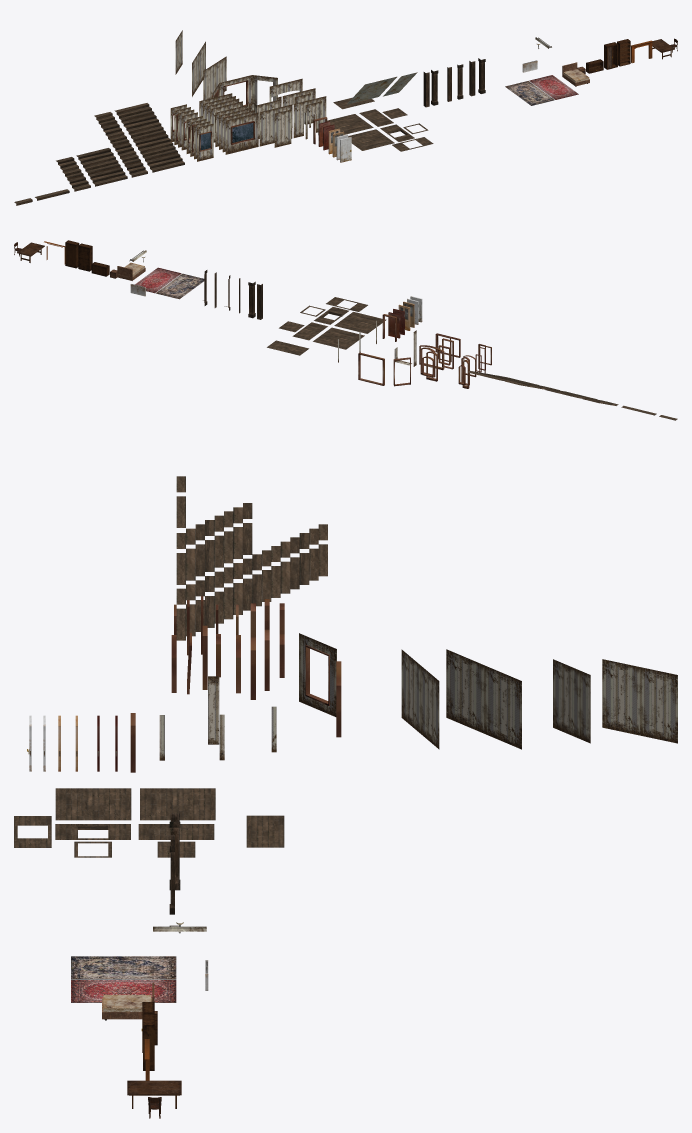
The model's file is Architecture Kit.gltf.
3 renders of one model, top to bottom at view 1: azimuth 30°, elevation 25°; view 2: azimuth 150°, elevation 25°; view 3: azimuth 270°, elevation 25°, orthographic. The views are drawn at different scales.
Visible parts, largest first — view 1: Stairs_Wide_Full, Stairs_Narrow_Full, Stairs_Wide_Half, Wall_Window_3x3_01, Wall_3x3, Wall_3x3_Angled_1.5, Wall_BayWindow, Wall_Doorway_3x3, Props_Rug01, Props_Rug02, Wall_3x1.5, Stairs_Narrow_Half (+11 smaller); view 2: Props_Rug02, Floor_3x3, Props_Rug01, Floor_3x3_Hatch, Props_Wardrobe, Props_Bookshelf, Floor_1.5x3_H, Floor_1.5x3_V; view 3: Wall_1.5x1.5_Angled_3, Wall_3x3_Angled_3, Stairs_Wide_Full, Wall_3x3_Angled_1.5, Wall_1.5x1.5_Angled_1.5, Stairs_Narrow_Full, Props_Rug02, Stairs_Wide_Half, Floor_3x3, Floor_3x3_Hatch, Props_Rug01, Wall_BayWindow (+4 smaller).
Boxes of the visible parts, x1,y1,x2,y2 form: Stairs_Wide_Full: [114, 103, 184, 172]; Stairs_Narrow_Full: [94, 112, 147, 177]; Stairs_Wide_Half: [76, 148, 127, 186]; Wall_Window_3x3_01: [225, 112, 258, 154]; Wall_3x3: [259, 104, 292, 146]; Wall_3x3_Angled_1.5: [203, 56, 226, 100]; Wall_BayWindow: [212, 75, 277, 108]; Wall_Doorway_3x3: [293, 96, 326, 137]; Props_Rug01: [529, 75, 578, 99]; Props_Rug02: [505, 81, 554, 105]; Wall_3x1.5: [274, 109, 291, 147]; Stairs_Narrow_Half: [56, 157, 90, 191]; Props_Rug02: [155, 273, 204, 299]; Floor_3x3: [313, 327, 364, 349]; Props_Rug01: [135, 267, 181, 293]; Floor_3x3_Hatch: [334, 312, 386, 333]; Props_Wardrobe: [78, 243, 92, 271]; Props_Bookshelf: [65, 240, 79, 268]; Floor_1.5x3_H: [267, 340, 308, 355]; Floor_1.5x3_V: [292, 322, 327, 340]; Wall_1.5x1.5_Angled_3: [602, 659, 677, 743]; Wall_3x3_Angled_3: [446, 649, 521, 749]; Stairs_Wide_Full: [176, 544, 327, 640]; Wall_3x3_Angled_1.5: [401, 649, 439, 749]; Wall_1.5x1.5_Angled_1.5: [553, 659, 590, 743]; Stairs_Narrow_Full: [176, 524, 327, 604]; Props_Rug02: [71, 956, 176, 979]; Stairs_Wide_Half: [176, 523, 252, 584]; Floor_3x3: [140, 788, 215, 820]; Floor_3x3_Hatch: [55, 788, 131, 820]; Props_Rug01: [71, 980, 176, 1002]; Wall_BayWindow: [299, 633, 336, 716].
Size of the model in its own units: 5993 by 620 by 2633.
